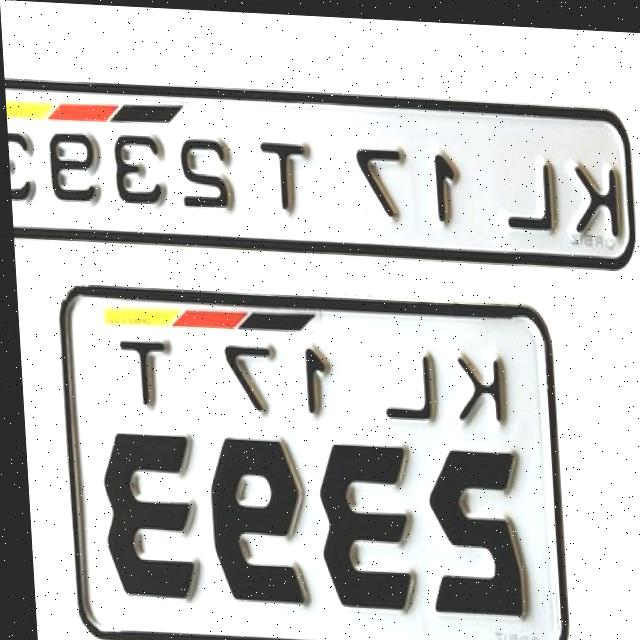plate: (47, 269, 570, 640), (3, 70, 640, 268)
